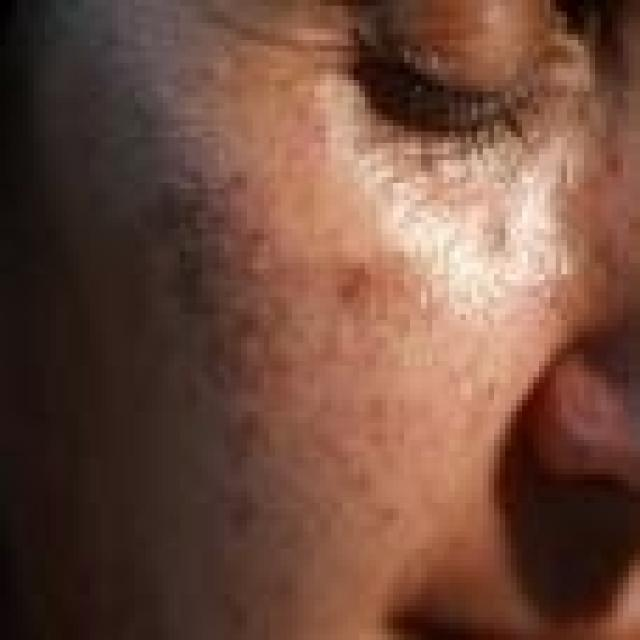Melasma: (160, 170, 399, 624)
